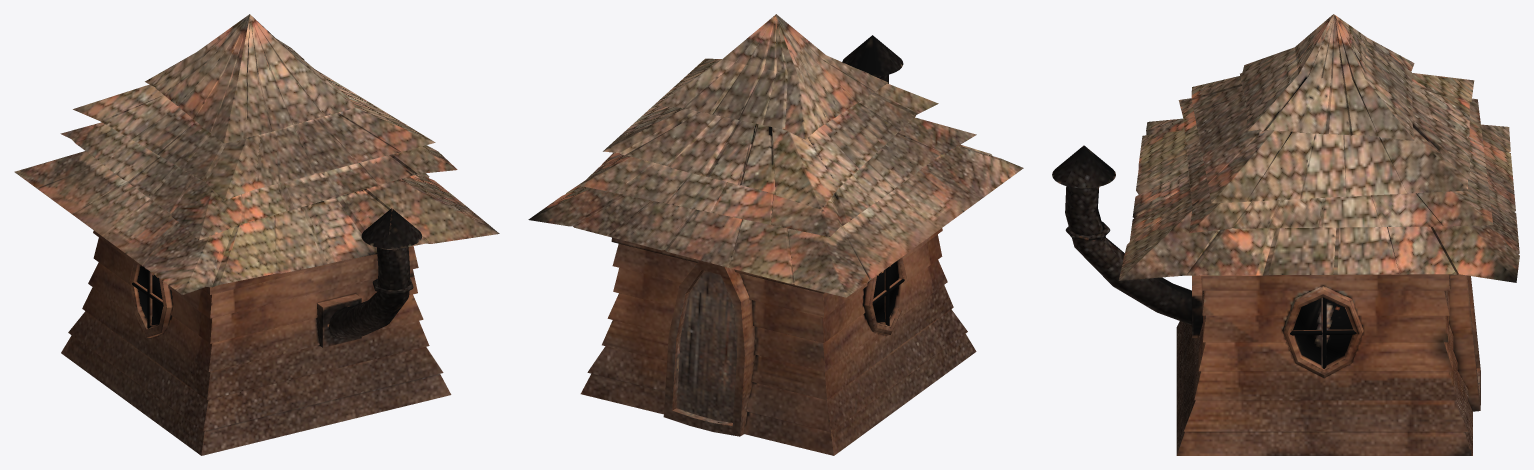
The model's file is Witch'sHut.fbx.
3 views of the same model, side by side, from view 1: azimuth 30°, elevation 25°; view 2: azimuth 150°, elevation 25°; view 3: azimuth 270°, elevation 25° (orthographic). The views are drawn at different scales.
Visible parts, largest first — view 1: Cube; view 2: Cube; view 3: Cube.
Boxes of the visible parts, bbox=[...] form: Cube: bbox=[14, 14, 499, 455]; Cube: bbox=[528, 14, 1023, 455]; Cube: bbox=[1052, 14, 1519, 455].
Bounding box in the file's own units: 751 × 828 × 920.
